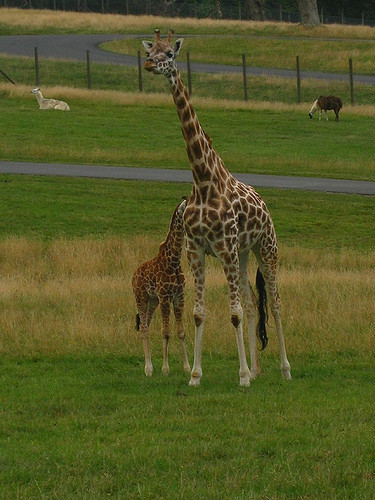giraffe: (148, 29, 311, 407), (123, 174, 203, 384)
